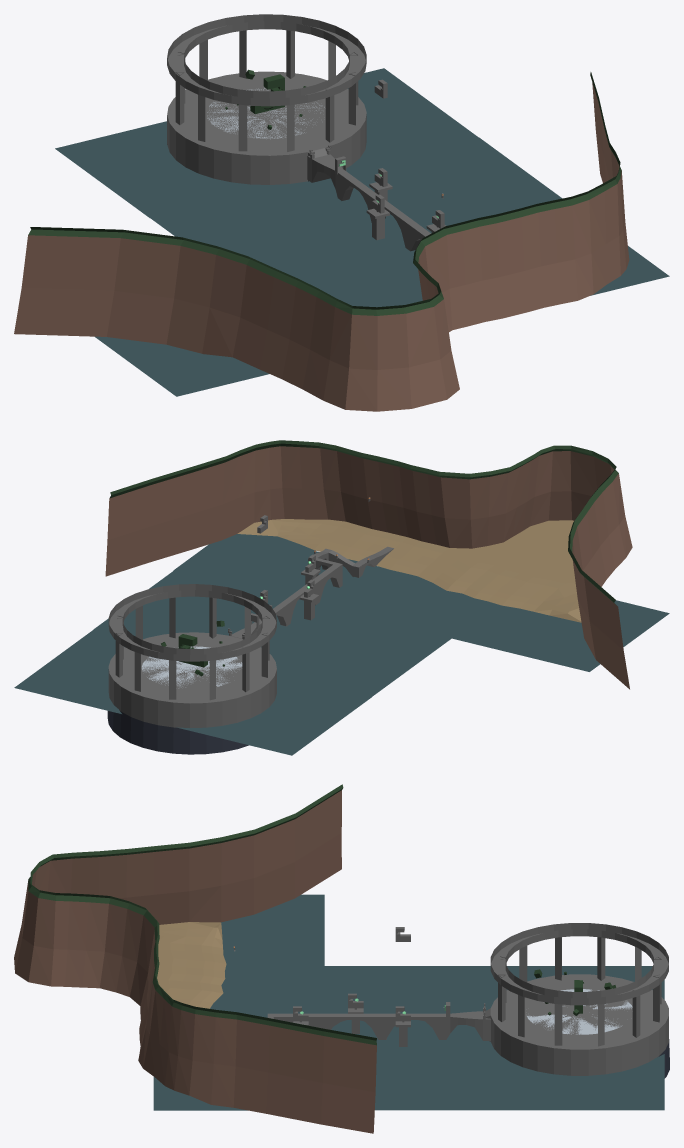
The model's file is world.obj.
The picture shows the model from 3 angles, top to bottom: view 1: azimuth 30°, elevation 25°; view 2: azimuth 150°, elevation 25°; view 3: azimuth 270°, elevation 25°; orthographic projection. The views are drawn at different scales.
Parts seen in each view (by area): view 1: ph_beach5, ph_beach6, bernardbuilding1, ph_bernardbuilding1, water.003, ph_beach1, water.002, bernard1.003, ph_beach2, water.004, water.001, water.005 (+7 smaller); view 2: ph_beach3, bernardbuilding1, ph_beach4, ph_beach5, water.003, ph_beach1, ph_bernardbuilding1, ph_beach2, ph_beach6, water.001, water.005, bernard1.003 (+5 smaller); view 3: ph_beach5, ph_beach3, bernardbuilding1, ph_beach4, ph_bernardbuilding1, water.003, water.002, water.004, water.005, ph_beach6, water.001, ph_beach2 (+6 smaller).
Boxes of the visible parts, x1,y1,x2,y2 form: ph_beach5: [14, 227, 319, 388]; ph_beach6: [302, 283, 459, 411]; bernardbuilding1: [167, 14, 366, 155]; ph_bernardbuilding1: [167, 71, 366, 184]; water.003: [150, 181, 405, 275]; ph_beach1: [444, 200, 560, 330]; water.002: [319, 137, 562, 243]; bernard1.003: [55, 121, 289, 217]; ph_beach2: [552, 176, 620, 303]; water.004: [346, 68, 478, 169]; water.001: [292, 248, 422, 307]; water.005: [95, 336, 268, 396]; ph_beach3: [105, 440, 284, 576]; bernardbuilding1: [107, 584, 276, 754]; ph_beach4: [418, 450, 574, 593]; ph_beach5: [463, 486, 629, 689]; water.003: [261, 605, 451, 697]; ph_beach1: [331, 449, 449, 576]; ph_bernardbuilding1: [108, 632, 276, 727]; ph_beach2: [277, 440, 359, 551]; ph_beach6: [530, 445, 632, 568]; water.001: [316, 565, 497, 637]; water.005: [450, 600, 669, 671]; bernard1.003: [176, 674, 371, 755]; ph_beach5: [99, 784, 343, 985]; ph_beach3: [164, 999, 376, 1133]; bernardbuilding1: [490, 923, 669, 1078]; ph_beach4: [51, 893, 223, 1008]; ph_bernardbuilding1: [483, 974, 668, 1075]; water.003: [324, 966, 495, 1038]; water.002: [375, 1038, 495, 1110]; water.004: [493, 1050, 664, 1110]; water.005: [221, 894, 324, 966]; ph_beach6: [14, 851, 100, 986]; water.001: [210, 966, 324, 1017]; ph_beach2: [138, 968, 173, 1085].
Size of the model in its own units: 291 by 74.4 by 305.
